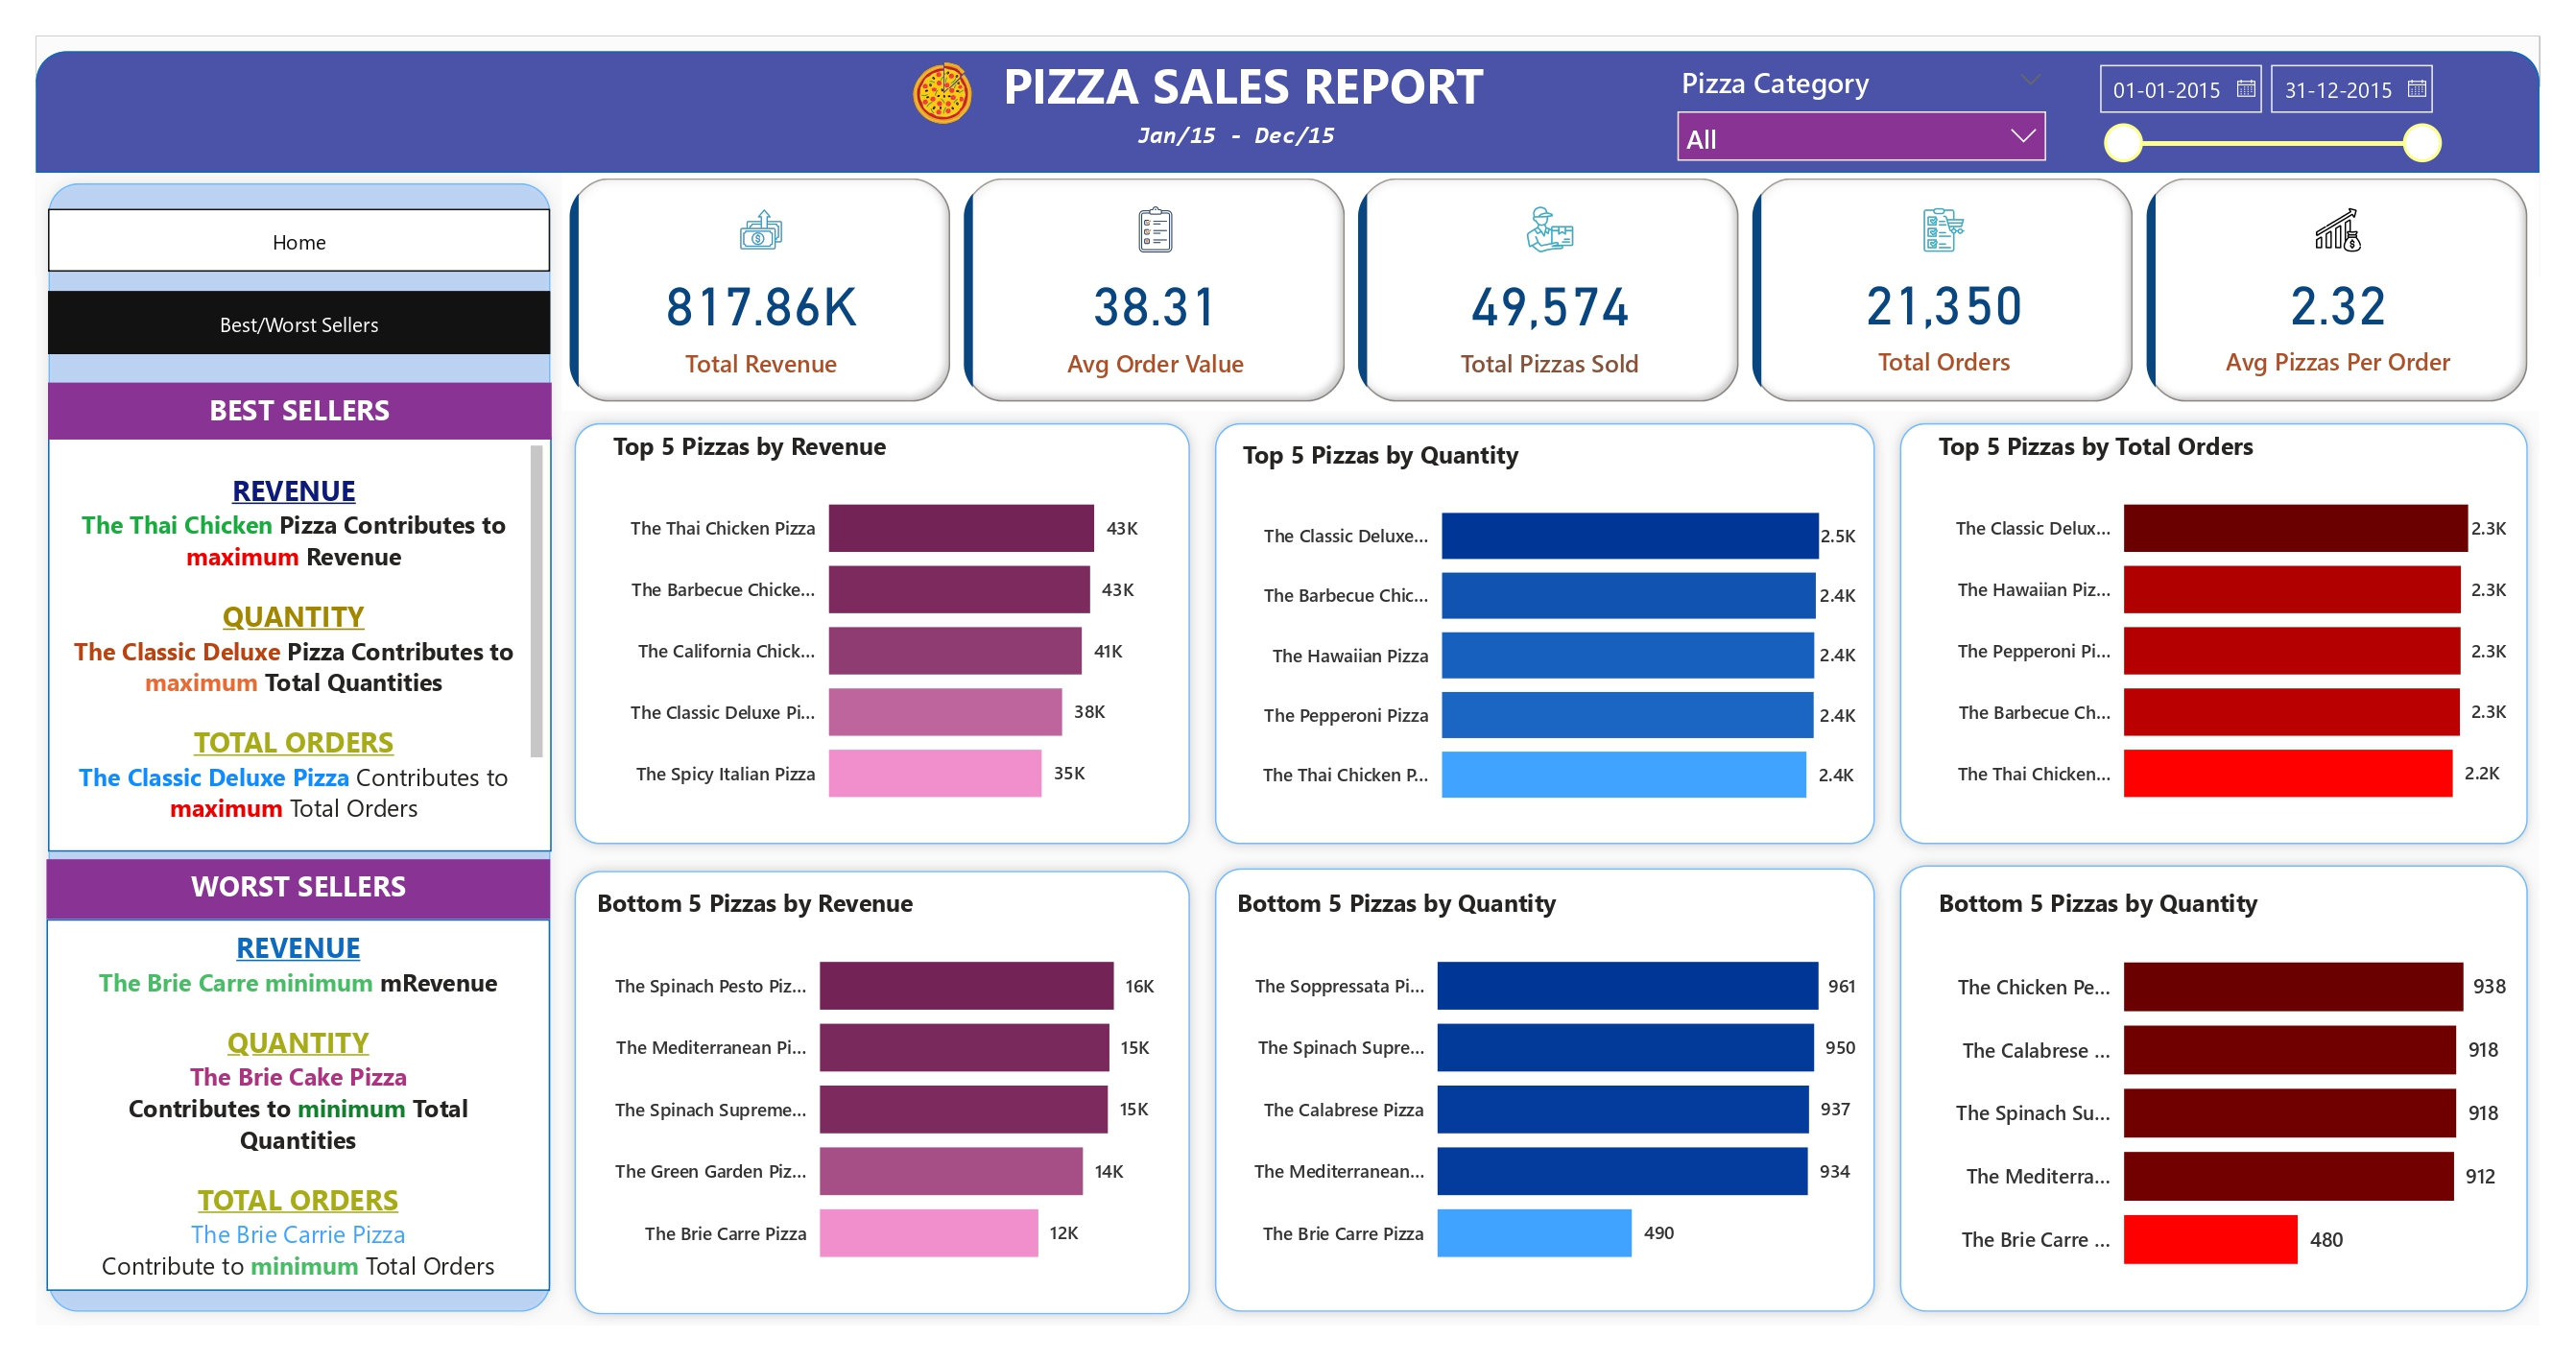

The dashboard page shown, as its layout file describes it:
{"tool":"powerbi","page":{"name":"Best/Worst Sellers","canvas":[1670,860],"ordinal":1},"visuals":[{"type":"shape","box":[0,89.9,350.5,768.9],"z":0},{"type":"textbox","box":[7.3,548.7,335.8,40.4],"z":1000},{"type":"cardVisual","fields":{"Data":["pizza_sales (1).Total Revenue","pizza_sales (1).Avg Order Value","pizza_sales (1).Total Pizzas Sold","pizza_sales (1).Total Orders","pizza_sales (1).Avg Pizzas Per Order"]},"box":[350.5,89.9,1319.5,159.7],"z":2000},{"type":"shape","box":[0,9.8,1670,81.1],"z":3000},{"type":"textbox","box":[563.4,12.8,484.5,67.9],"z":4000},{"type":"textbox","box":[673.5,51.4,253.3,38.5],"z":5000},{"type":"image","box":[567.1,9.2,75.2,56.9],"z":6000},{"type":"shape","box":[350.5,249.6,427.6,297.3],"z":7000},{"type":"slicer","fields":{"Values":["pizza_sales (1).pizza_category"]},"box":[1084.6,12.8,266.1,77.1],"z":8000},{"type":"slicer","fields":{"Values":["pizza_sales (1).order_date"]},"box":[1363.5,9.2,249.6,84.4],"z":9000},{"type":"textbox","box":[8,267.5,335.9,277],"z":10000},{"type":"textbox","box":[8,230.8,335.9,38.2],"z":11000},{"type":"textbox","box":[7.3,589.1,335.8,247.7],"z":12000},{"type":"shape","box":[350.5,548.7,427.6,312],"z":13000},{"type":"shape","box":[778.1,546.9,457,312],"z":14000},{"type":"shape","box":[1235.1,545,434.9,313.8],"z":15000},{"type":"shape","box":[778.1,249.6,457,297.3],"z":16000},{"type":"shape","box":[1235.1,249.6,434.9,297.3],"z":17000},{"type":"barChart","title":"Top 5 Pizzas by Revenue","fields":{"Category":["pizza_sales (1).pizza_name"],"Y":["pizza_sales (1).Total Revenue"]},"box":[379.9,262.4,379.9,267.9],"z":18000},{"type":"barChart","title":"Bottom 5 Pizzas by Revenue","fields":{"Category":["pizza_sales (1).pizza_name"],"Y":["pizza_sales (1).Total Revenue"]},"box":[368.9,567.1,394.6,269.8],"z":19000},{"type":"barChart","title":"Top 5 Pizzas by Quantity","fields":{"Category":["pizza_sales (1).pizza_name"],"Y":["pizza_sales (1).Total Pizzas Sold"]},"box":[800.1,267.9,418.4,262.4],"z":20000},{"type":"barChart","title":"Bottom 5 Pizzas by Quantity","fields":{"Category":["pizza_sales (1).pizza_name"],"Y":["pizza_sales (1).Total Pizzas Sold"]},"box":[796.5,567.1,422.1,269.8],"z":21000},{"type":"barChart","title":"Top 5 Pizzas by Total Orders","fields":{"Category":["pizza_sales (1).pizza_name"],"Y":["pizza_sales (1).Total Orders"]},"box":[1264.4,262.4,389.1,267.9],"z":22000},{"type":"barChart","title":"Bottom 5 Pizzas by Quantity","fields":{"Category":["pizza_sales (1).pizza_name"],"Y":["pizza_sales (1).Total Orders"]},"box":[1264.4,567.1,389.1,275.3],"z":23000},{"type":"pageNavigator","box":[8,114.6,335.9,43],"z":24000},{"type":"pageNavigator","box":[8,170.3,335.9,43],"z":25000}]}

Visuals, with their boxes in screenshot pixels (x1, y1, x2, y2):
shape: [36, 171, 561, 1325]
textbox: [47, 859, 551, 920]
cardVisual - pizza_sales (1).Total Revenue x pizza_sales (1).Avg Order Value: [561, 171, 2540, 411]
shape: [36, 51, 2540, 173]
textbox: [881, 56, 1608, 157]
textbox: [1046, 113, 1425, 171]
image: [886, 50, 999, 135]
shape: [561, 411, 1203, 856]
slicer - pizza_sales (1).pizza_category: [1662, 56, 2062, 171]
slicer - pizza_sales (1).order_date: [2081, 50, 2455, 177]
textbox: [48, 438, 552, 852]
textbox: [48, 382, 552, 440]
textbox: [47, 920, 551, 1291]
shape: [561, 859, 1203, 1326]
shape: [1203, 856, 1888, 1325]
shape: [1888, 853, 2540, 1325]
shape: [1203, 411, 1888, 856]
shape: [1888, 411, 2540, 856]
"Top 5 Pizzas by Revenue" barChart: [606, 430, 1176, 831]
"Bottom 5 Pizzas by Revenue" barChart: [589, 887, 1181, 1291]
"Top 5 Pizzas by Quantity" barChart: [1235, 438, 1863, 831]
"Bottom 5 Pizzas by Quantity" barChart: [1230, 887, 1863, 1291]
"Top 5 Pizzas by Total Orders" barChart: [1932, 430, 2516, 831]
"Bottom 5 Pizzas by Quantity" barChart: [1932, 887, 2516, 1300]
pageNavigator: [48, 208, 552, 273]
pageNavigator: [48, 292, 552, 356]
